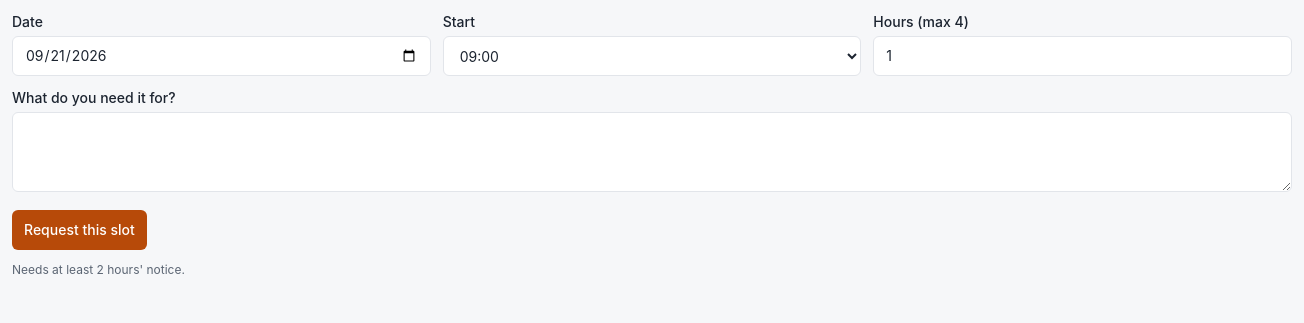
Test: BookingForm › refuses a period longer than the equipment allows
The image size is (1304, 323).
Type "Calibrating the probes" into the text box labelled "What do you need it for?".
click(652, 152); type("Calibrating the probes")  # box [12,112,1292,192]
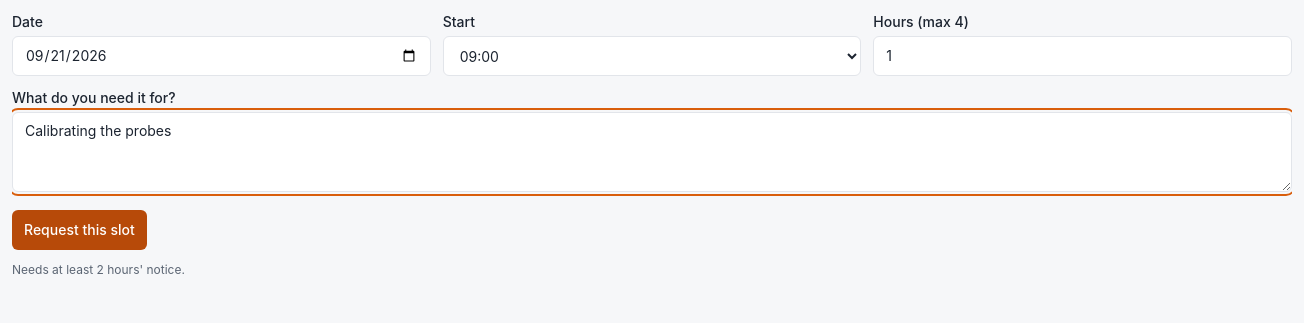
Replace the text in the field labelled "Hours (max 4)" with "6" at (1083, 56), box [873,36,1292,76]
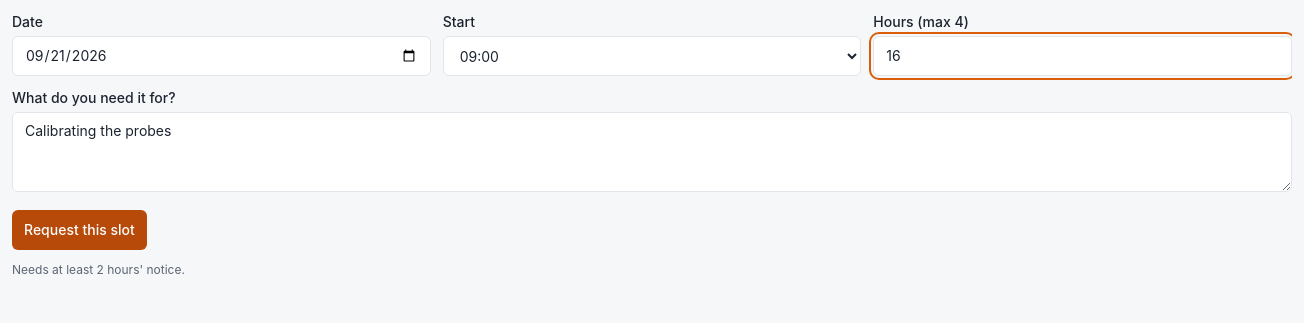
Click the button "Request this slot".
click(79, 230)  # box [12,210,147,250]
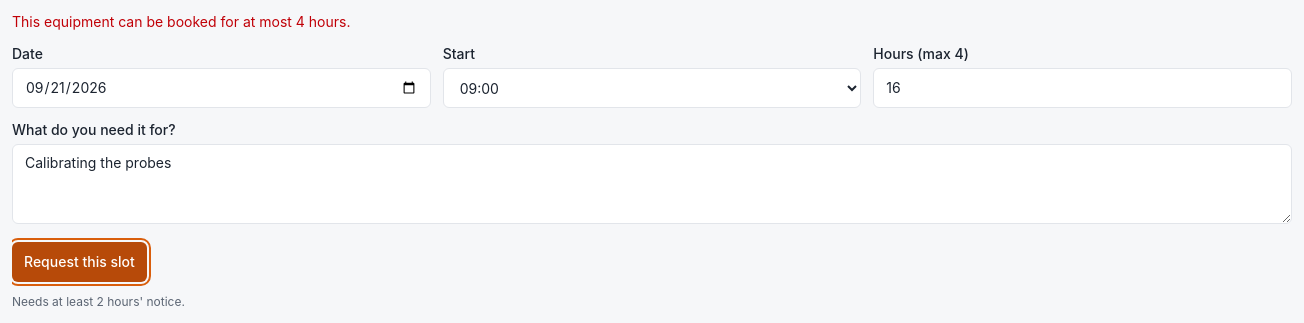
Result: the text "This equipment can be booked for at most 4 hours." is shown at [12,13,350,30]
